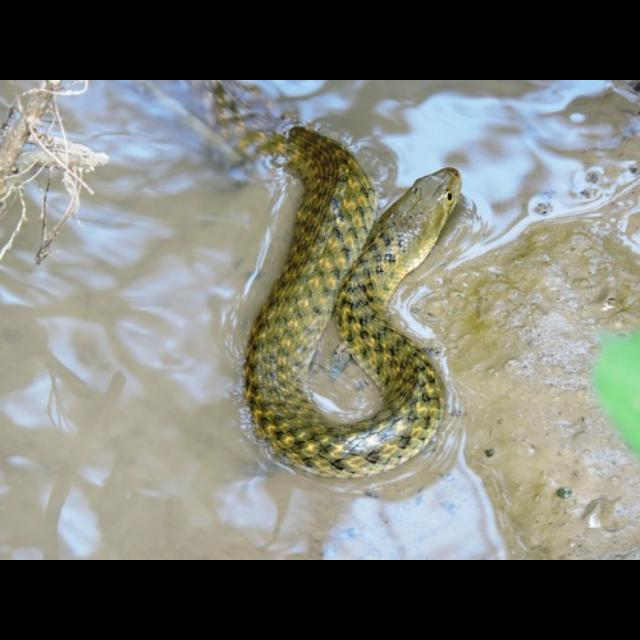snake: (241, 91, 464, 481)
